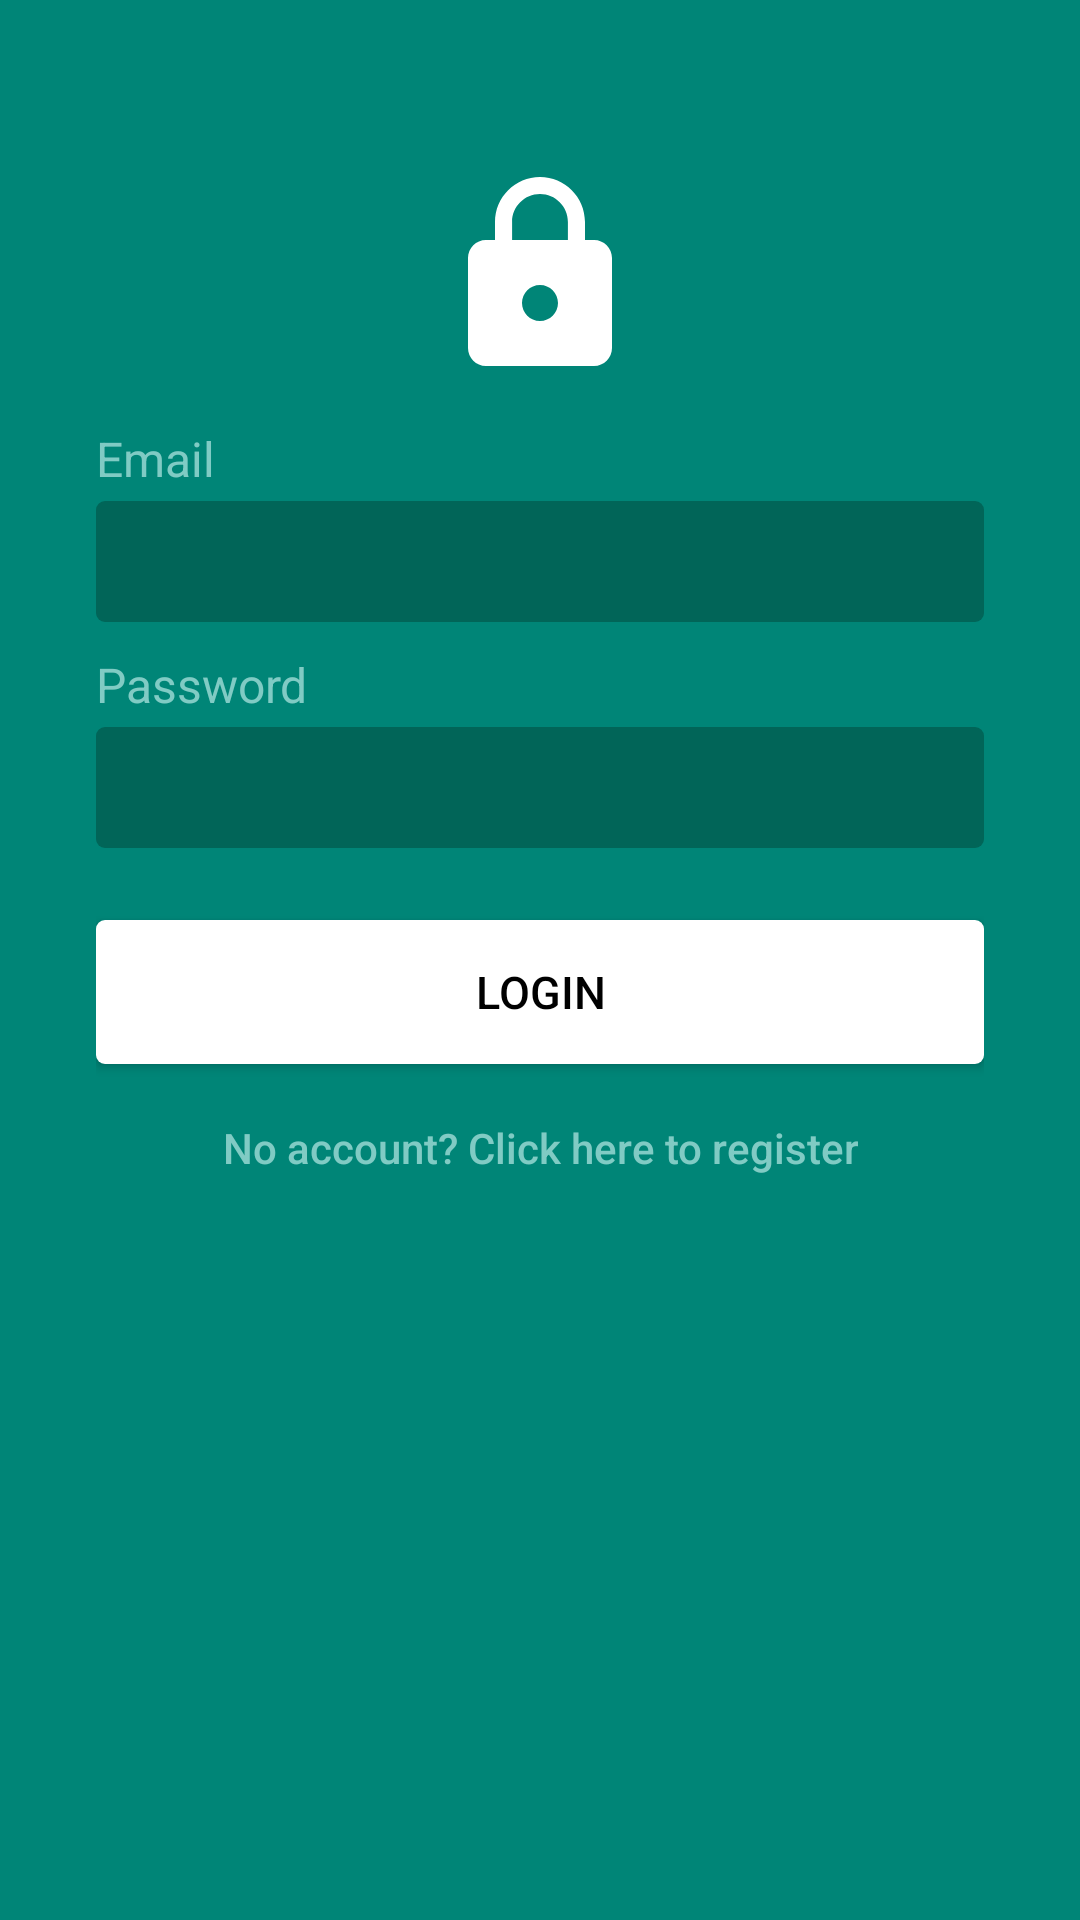

Screen size 1080px x 1920px. Icon name, then its center in pixels as (x,y):
lock: (540,271)
